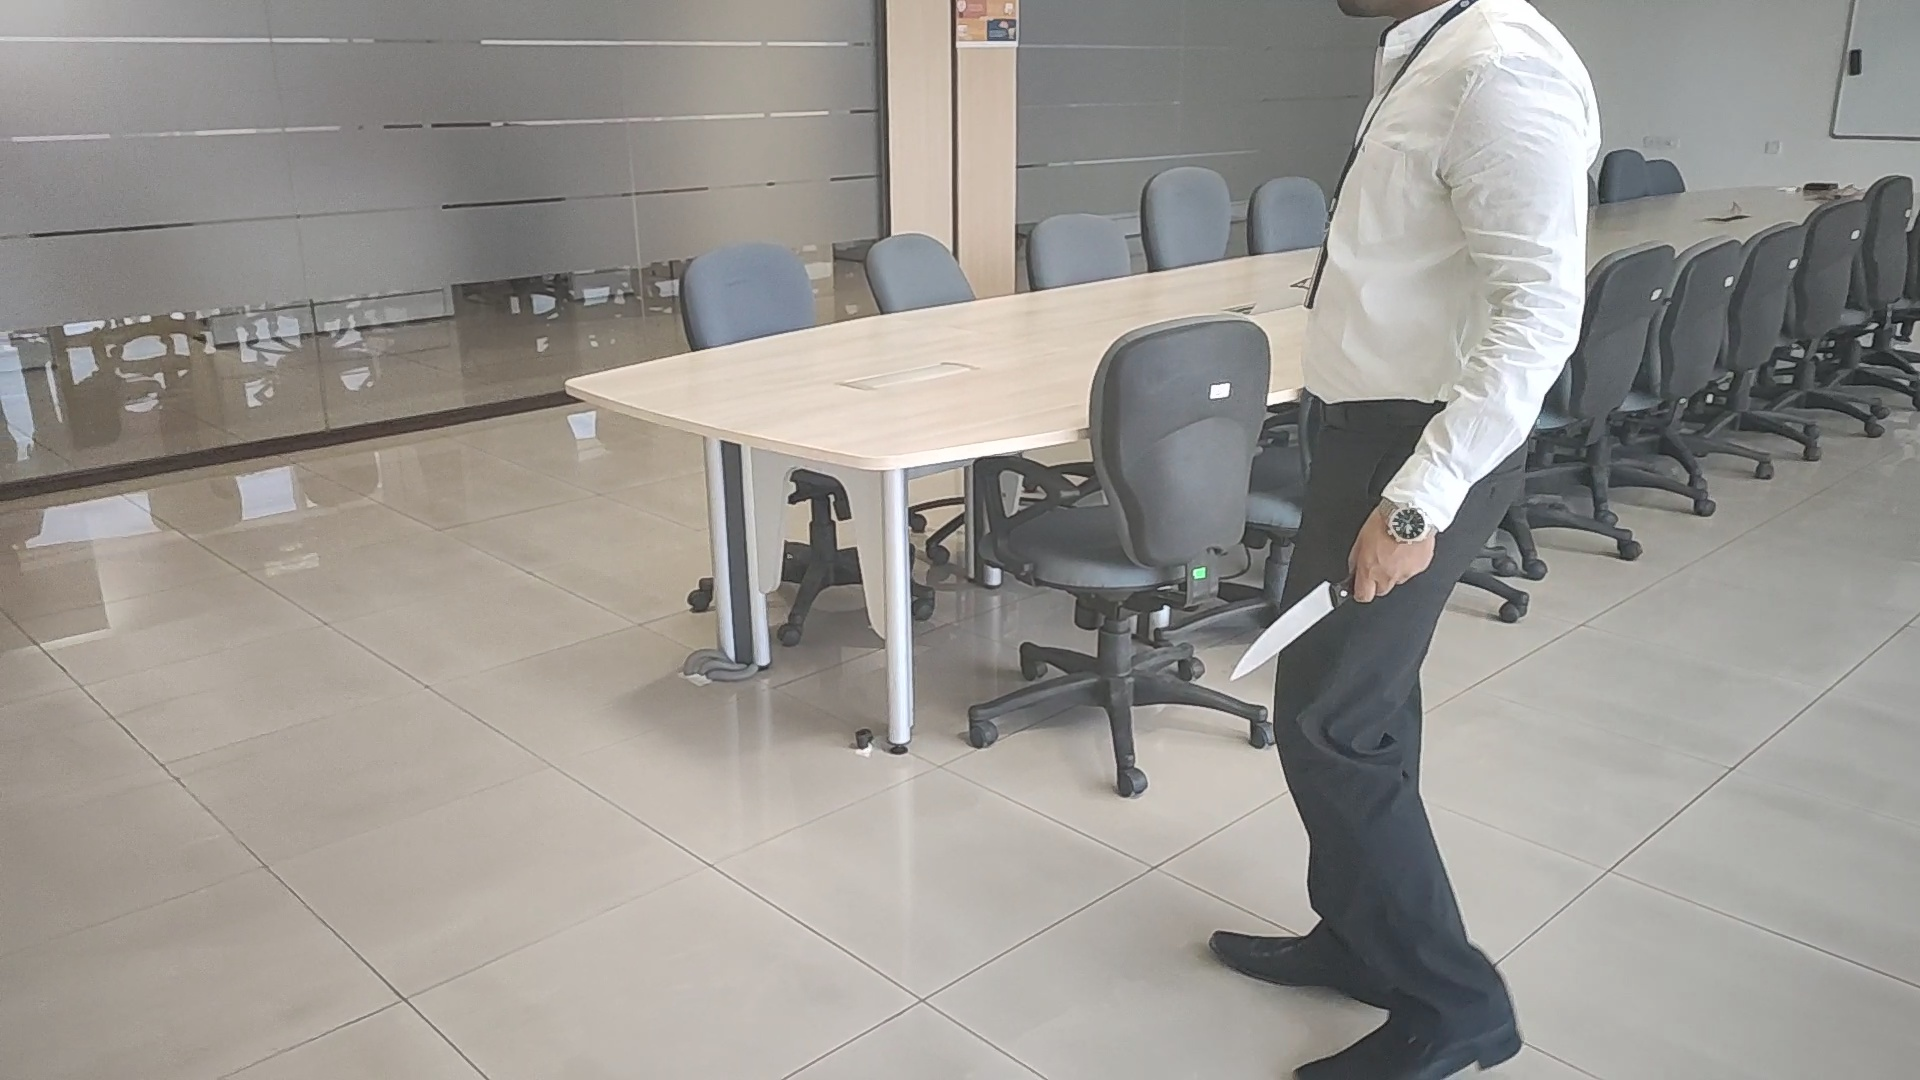knife: (1232, 567, 1354, 684)
